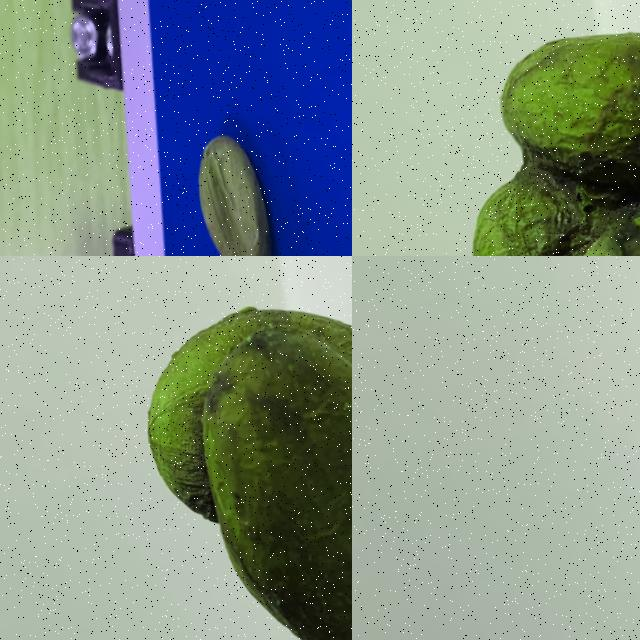Agglomerated_cocoabeans: (105, 256, 351, 639), (408, 0, 639, 255), (574, 256, 639, 639)
Fine_cocoabeans: (158, 33, 313, 255)
